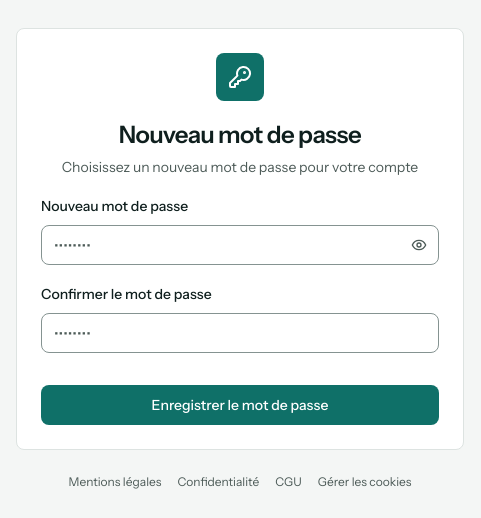
Scenario: ResetPasswordPage › does not submit mismatched passwords
In the password field labelled "Nouveau mot de passe": (240, 245) [41,225,439,265], type "Nouveau1!"
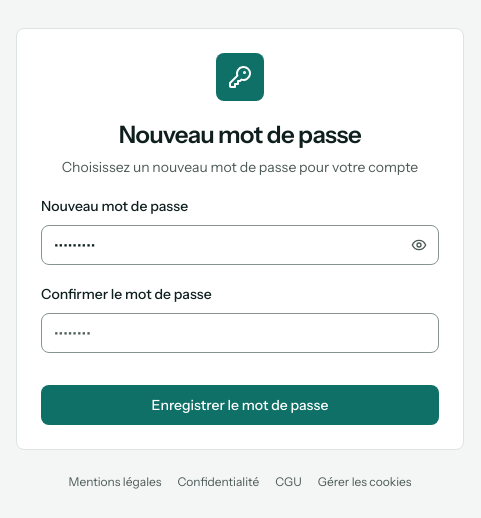
In the password field labelled "Confirmer le mot de passe": (240, 333) [41,313,439,353], type "Autre1!!"
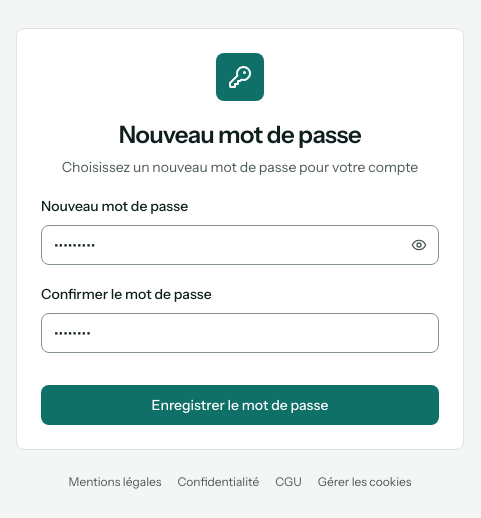
Click the button "Enregistrer le mot de passe": click(240, 405) [41,385,439,425]
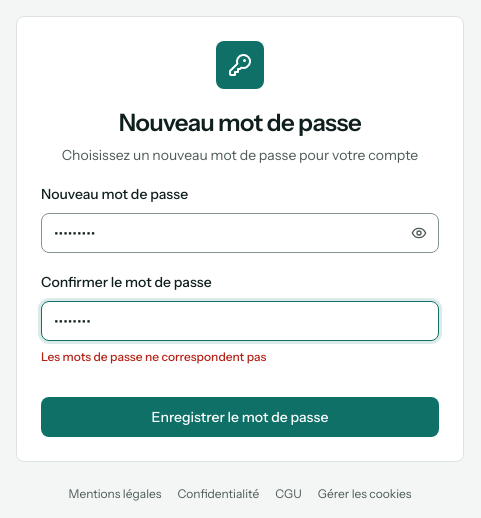
Result: the text "Les mots de passe ne correspondent pas" is shown at [41,349,266,364]
